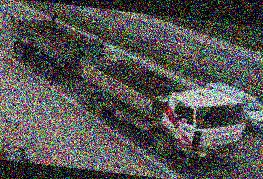truck: (1, 13, 253, 169)
